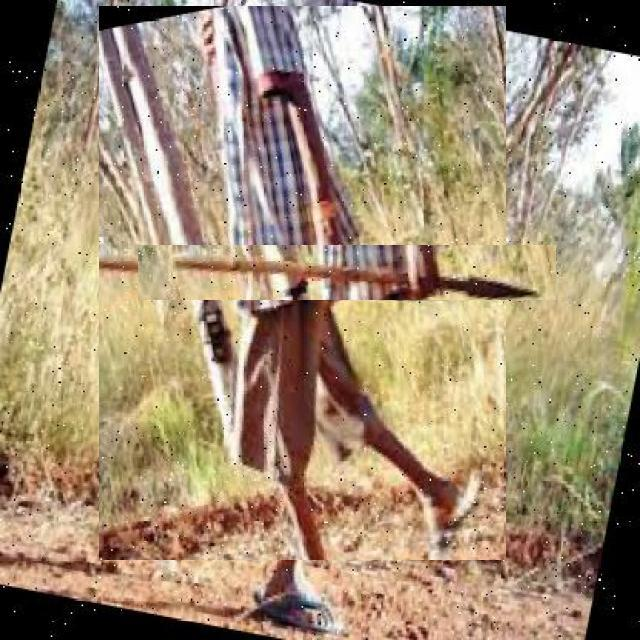p_robo: (138, 245, 556, 300)
poacher: (99, 6, 506, 560)
